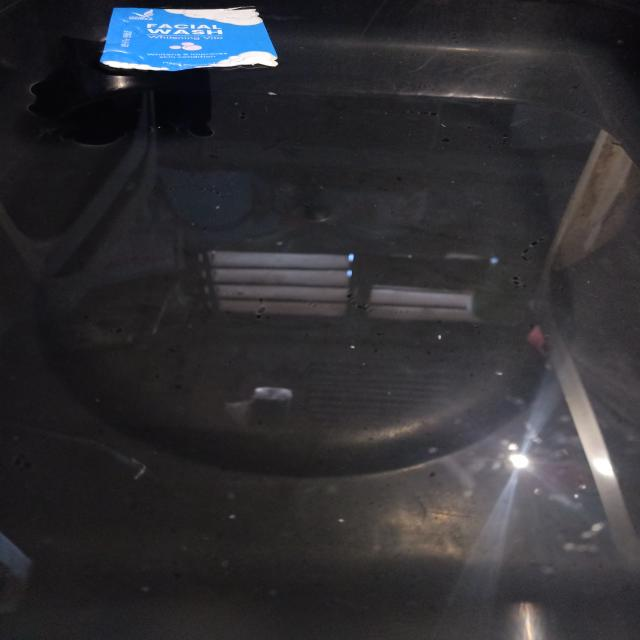Plastic Pouch: (101, 8, 277, 71)
